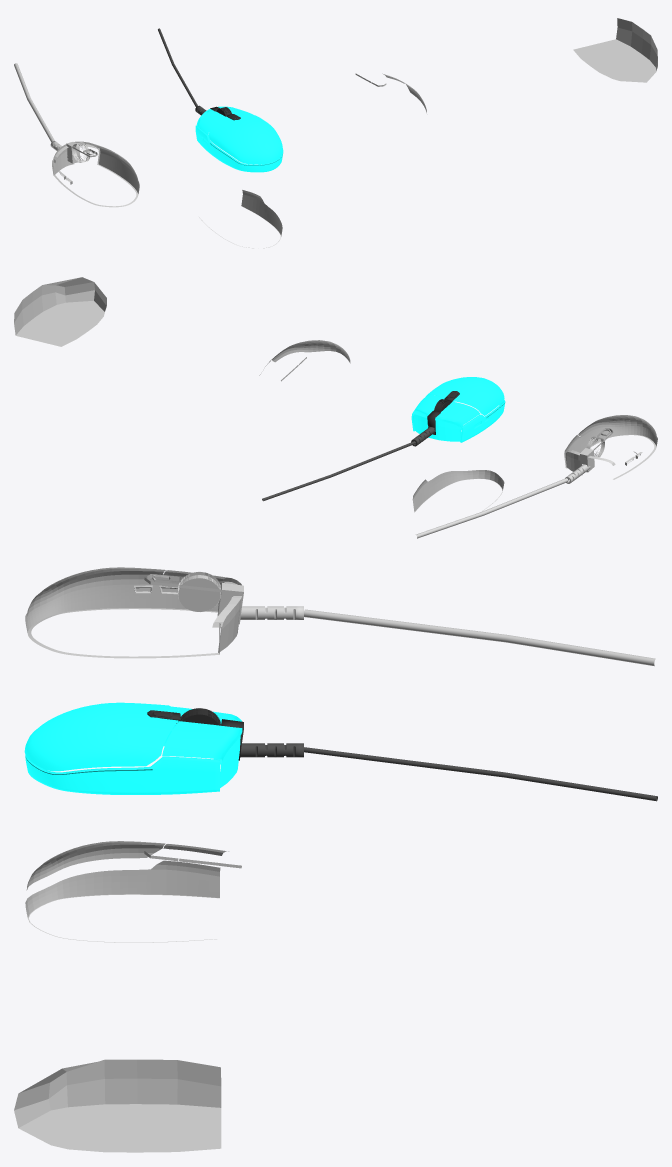
Rendered from Mouses.glb.
The picture shows the model from 3 angles, top to bottom: view 1: azimuth 30°, elevation 25°; view 2: azimuth 150°, elevation 25°; view 3: azimuth 270°, elevation 25°; orthographic projection. The views are drawn at different scales.
Parts seen in each view (by area): view 1: Plane.001, Plane.008, Plane.010, Plane.003, Plane.004, Plane.013, Cube.002; view 2: Plane.001, Plane.008, Plane.004, Plane.010, Plane.013, Plane.002, Cube.002, Plane.003, Plane.007, Cube.001; view 3: Plane.001, Plane.008, Plane.003, Plane.004, Plane.010, Plane.013, Cube.002, Plane.002, Cube.001, Circle.002, Cylinder.002, Cylinder.001.
Part boxes in pixels (<box>): Plane.001: <box>573,18,657,82</box>; Plane.008: <box>196,106,282,164</box>; Plane.010: <box>52,148,139,207</box>; Plane.003: <box>195,125,283,172</box>; Plane.004: <box>199,190,282,248</box>; Plane.013: <box>53,141,138,183</box>; Cube.002: <box>14,63,54,142</box>; Plane.001: <box>14,277,106,346</box>; Plane.008: <box>412,377,504,428</box>; Plane.004: <box>412,470,504,512</box>; Plane.010: <box>564,426,657,479</box>; Plane.013: <box>567,415,656,465</box>; Plane.002: <box>259,340,350,381</box>; Cube.002: <box>415,478,568,538</box>; Plane.003: <box>411,395,505,442</box>; Plane.007: <box>413,414,462,441</box>; Cube.001: <box>262,441,415,501</box>; Plane.001: <box>14,1059,221,1152</box>; Plane.008: <box>24,702,242,771</box>; Plane.003: <box>25,724,220,794</box>; Plane.004: <box>25,860,220,942</box>; Plane.010: <box>25,574,220,658</box>; Plane.013: <box>27,567,241,626</box>; Cube.002: <box>304,609,655,666</box>; Plane.002: <box>26,841,241,890</box>; Cube.001: <box>304,747,657,801</box>; Circle.002: <box>178,572,220,611</box>; Cylinder.002: <box>240,743,303,757</box>; Cylinder.001: <box>240,606,303,619</box>.
Size of the model in its own units: 19.97 by 3.63 by 9.99.
